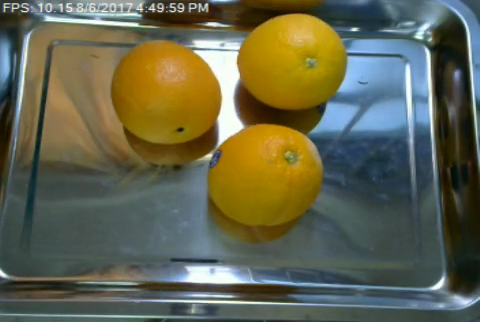Orange: (209, 124, 323, 226), (111, 39, 219, 142), (235, 13, 346, 111)
